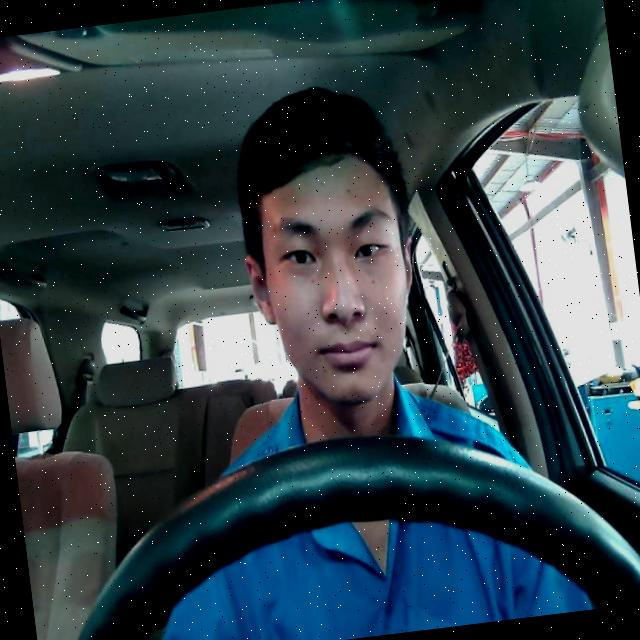focused: (232, 149, 432, 416)
